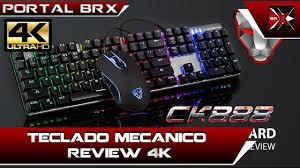keyboard: (9, 26, 247, 129)
mouse: (93, 45, 158, 119)
